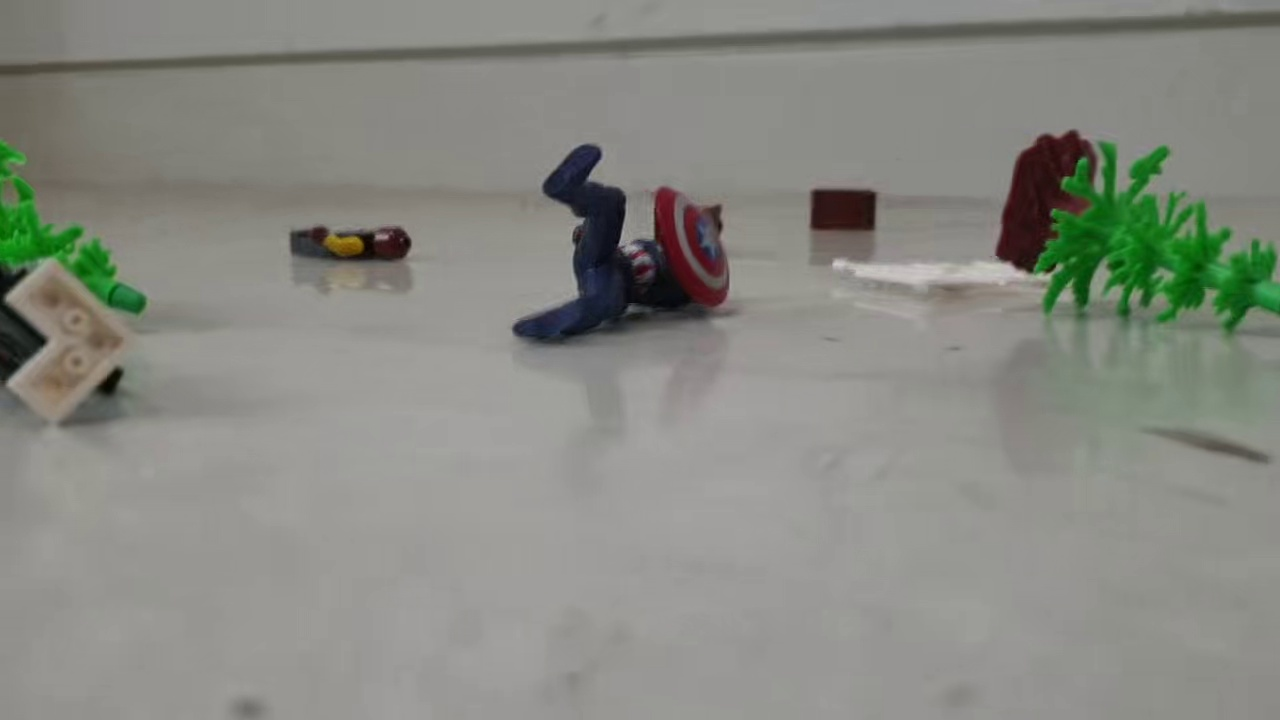box: (809, 187, 881, 236)
people: (507, 142, 738, 349), (1, 256, 139, 427), (287, 219, 413, 266)
tree: (995, 126, 1280, 337), (1, 138, 149, 319)
web: (832, 253, 1080, 299)
